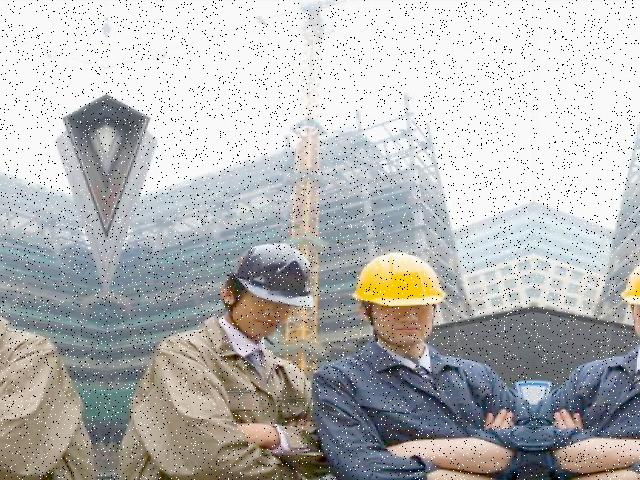Helmet: (227, 240, 324, 314), (347, 248, 451, 316)
